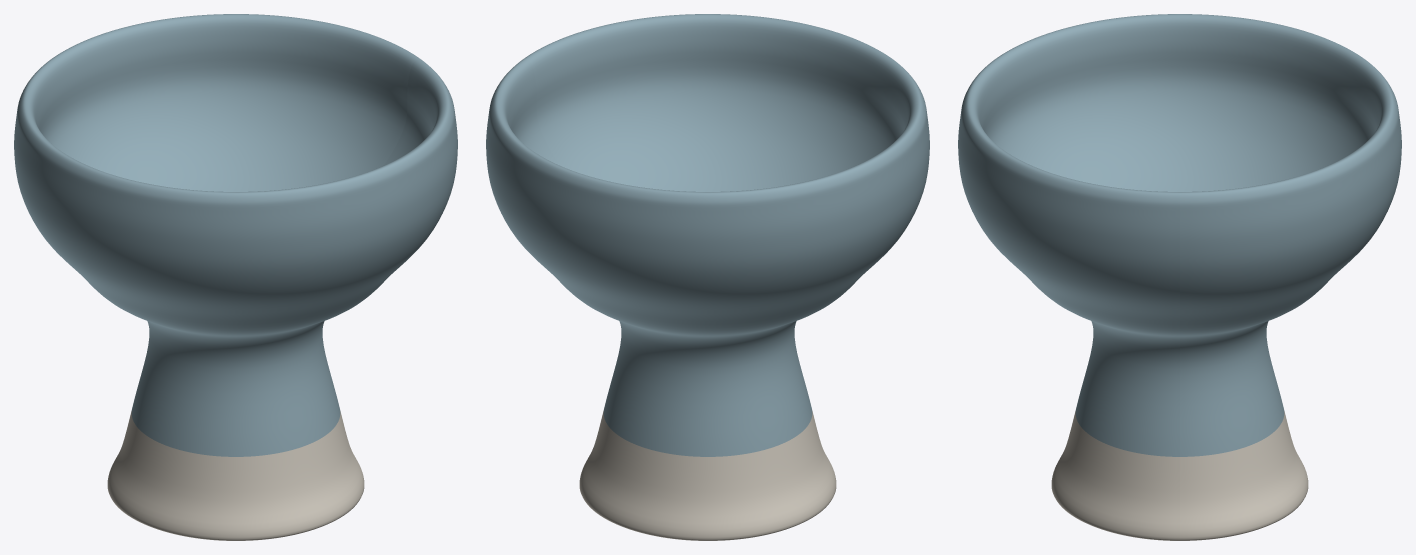
File: sori-series-mi.glb
3 views of the same model, side by side, from view 1: azimuth 30°, elevation 25°; view 2: azimuth 150°, elevation 25°; view 3: azimuth 270°, elevation 25° (orthographic).
Parts seen in each view (by area): view 1: MI Sori; view 2: MI Sori; view 3: MI Sori.
Boxes of the visible parts, left/top/right/bottom form: MI Sori: left=14, top=14, right=457, bottom=540; MI Sori: left=486, top=14, right=929, bottom=540; MI Sori: left=958, top=14, right=1401, bottom=540.
Size of the model in its own units: 1.83 by 1.77 by 1.83.
